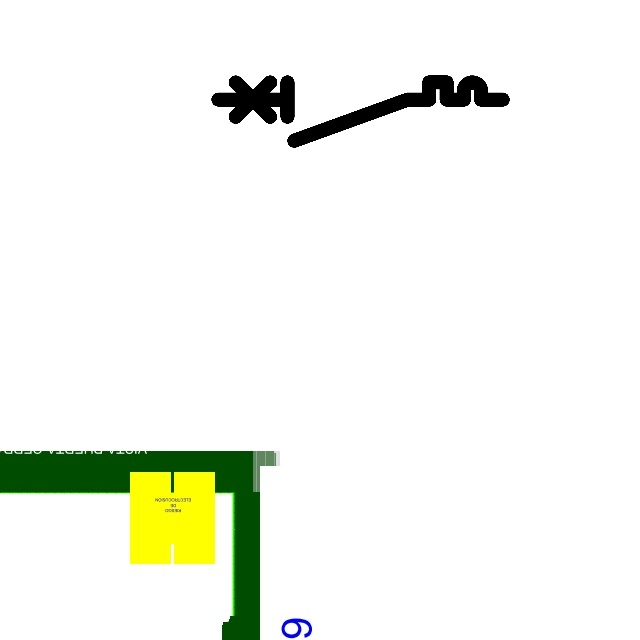interruptor_termomagnetico: (211, 75, 510, 148)
